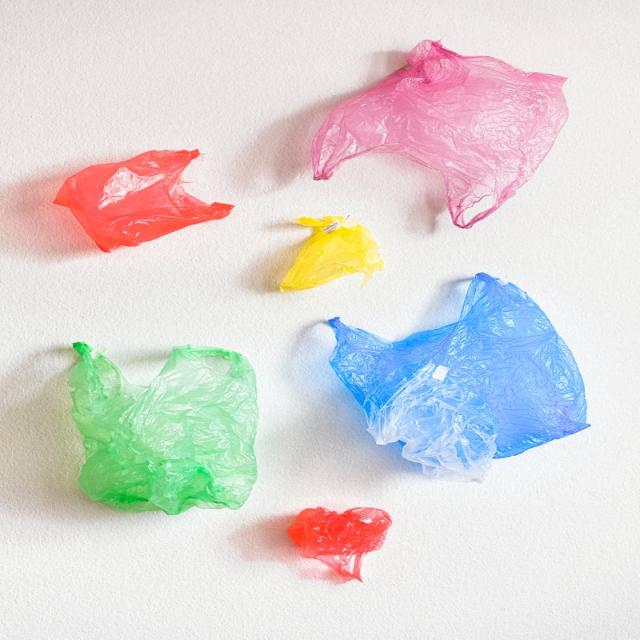Plastic: (315, 274, 600, 489), (298, 33, 582, 236), (57, 333, 266, 516), (40, 141, 245, 261), (275, 499, 394, 590), (269, 216, 387, 300)
